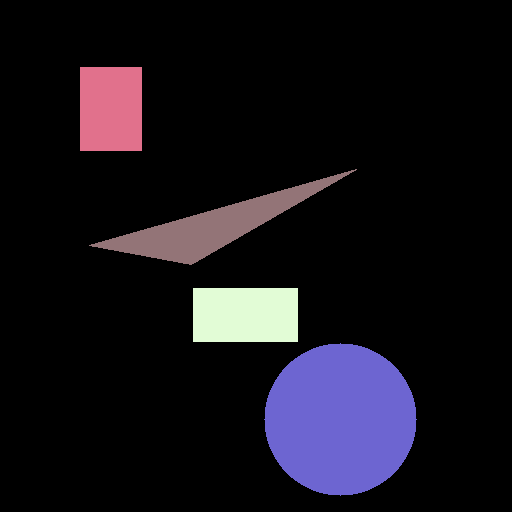circle: (264, 343, 416, 495)
rectangle: (193, 288, 297, 341), (80, 67, 141, 150)
triangle: (89, 169, 356, 264)
